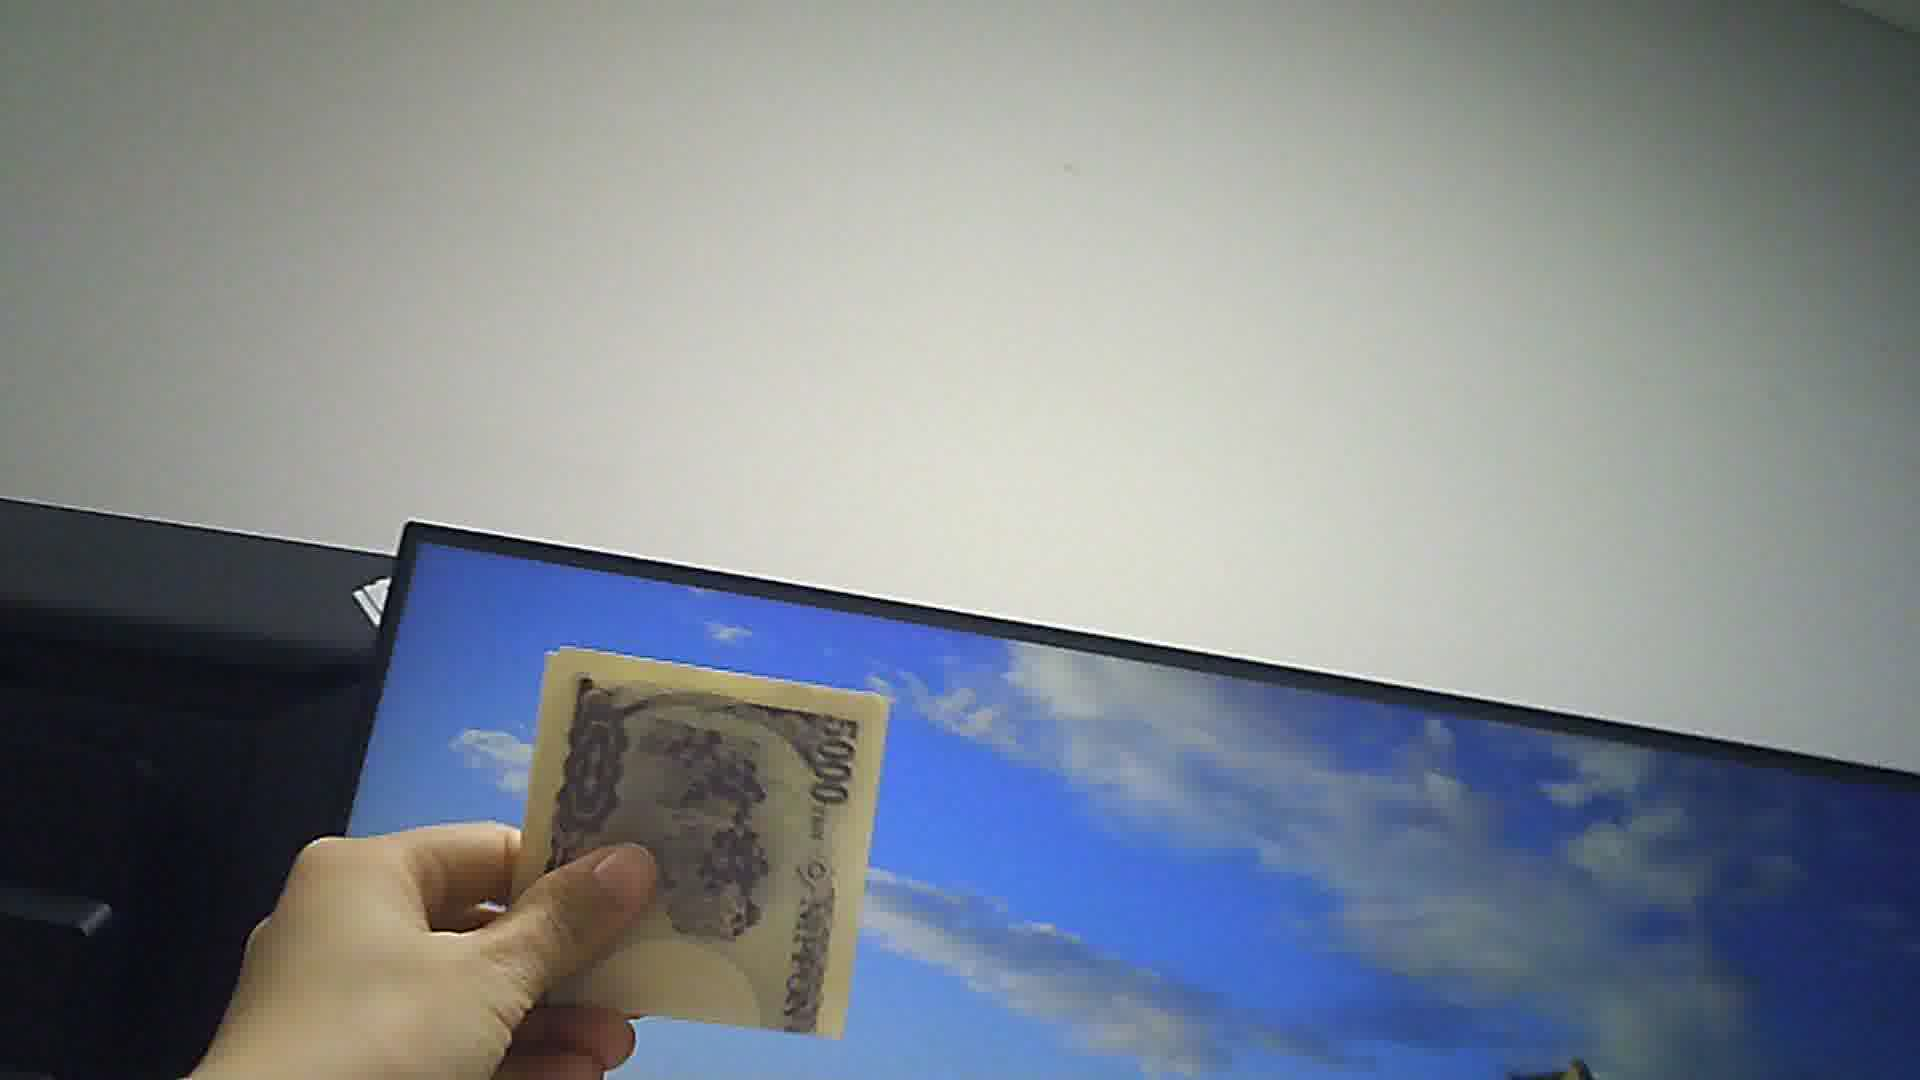5,000 Yen: (479, 642, 880, 1065)
